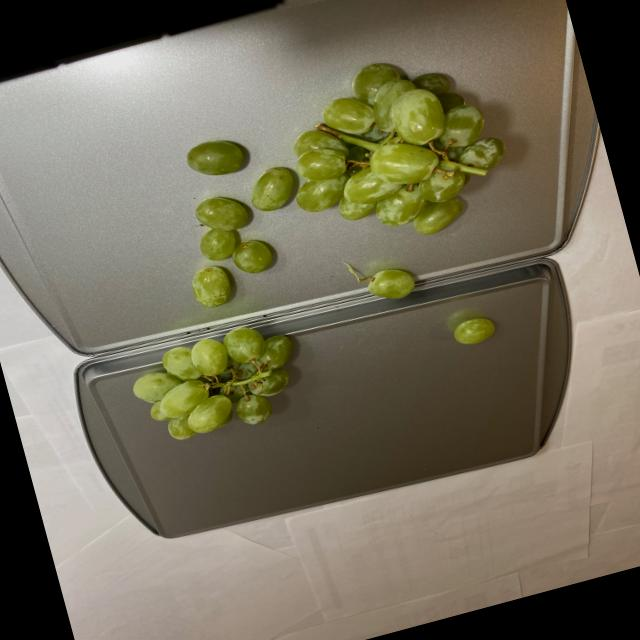grapes: (149, 36, 527, 310), (121, 314, 315, 455), (352, 258, 430, 309), (445, 312, 501, 349)
